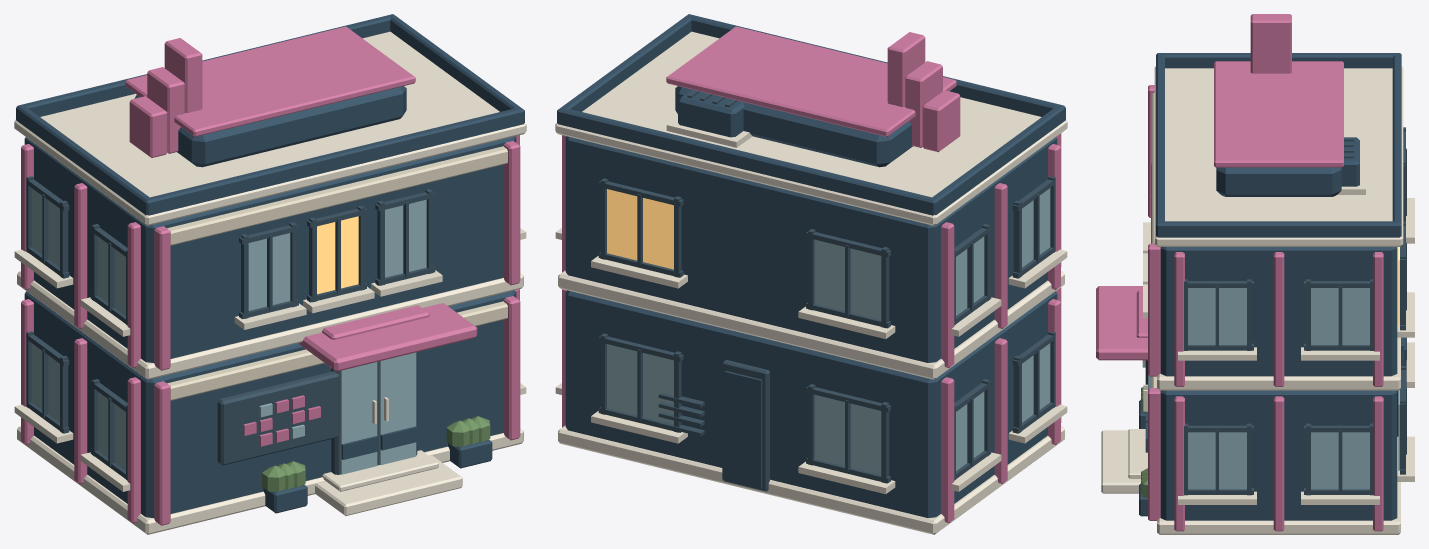
The model's file is gaming-l02.glb.
3 renders of one model, left to right at view 1: azimuth 30°, elevation 25°; view 2: azimuth 150°, elevation 25°; view 3: azimuth 270°, elevation 25°, orthographic. The views are drawn at different scales.
Parts seen in each view (by area): view 1: gaming_L02; view 2: gaming_L02; view 3: gaming_L02.
Part boxes in pixels (x1,y1,x2,y2): gaming_L02: [14, 14, 526, 534]; gaming_L02: [555, 14, 1067, 534]; gaming_L02: [1096, 14, 1414, 534].
Size of the model in its own units: 5.77 by 5.75 by 4.24.
